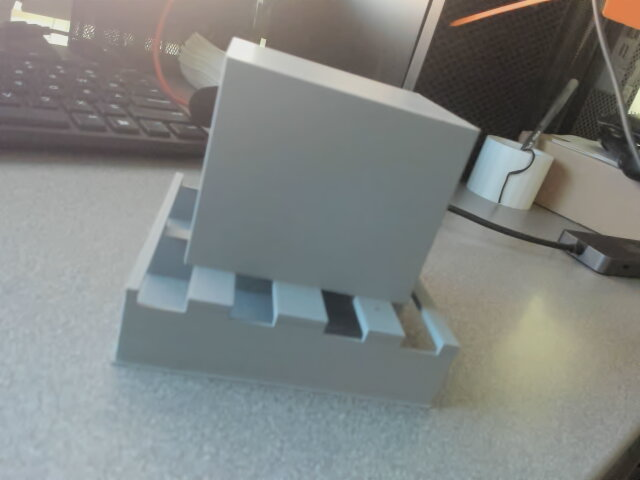grey pallet: (110, 33, 487, 413)
